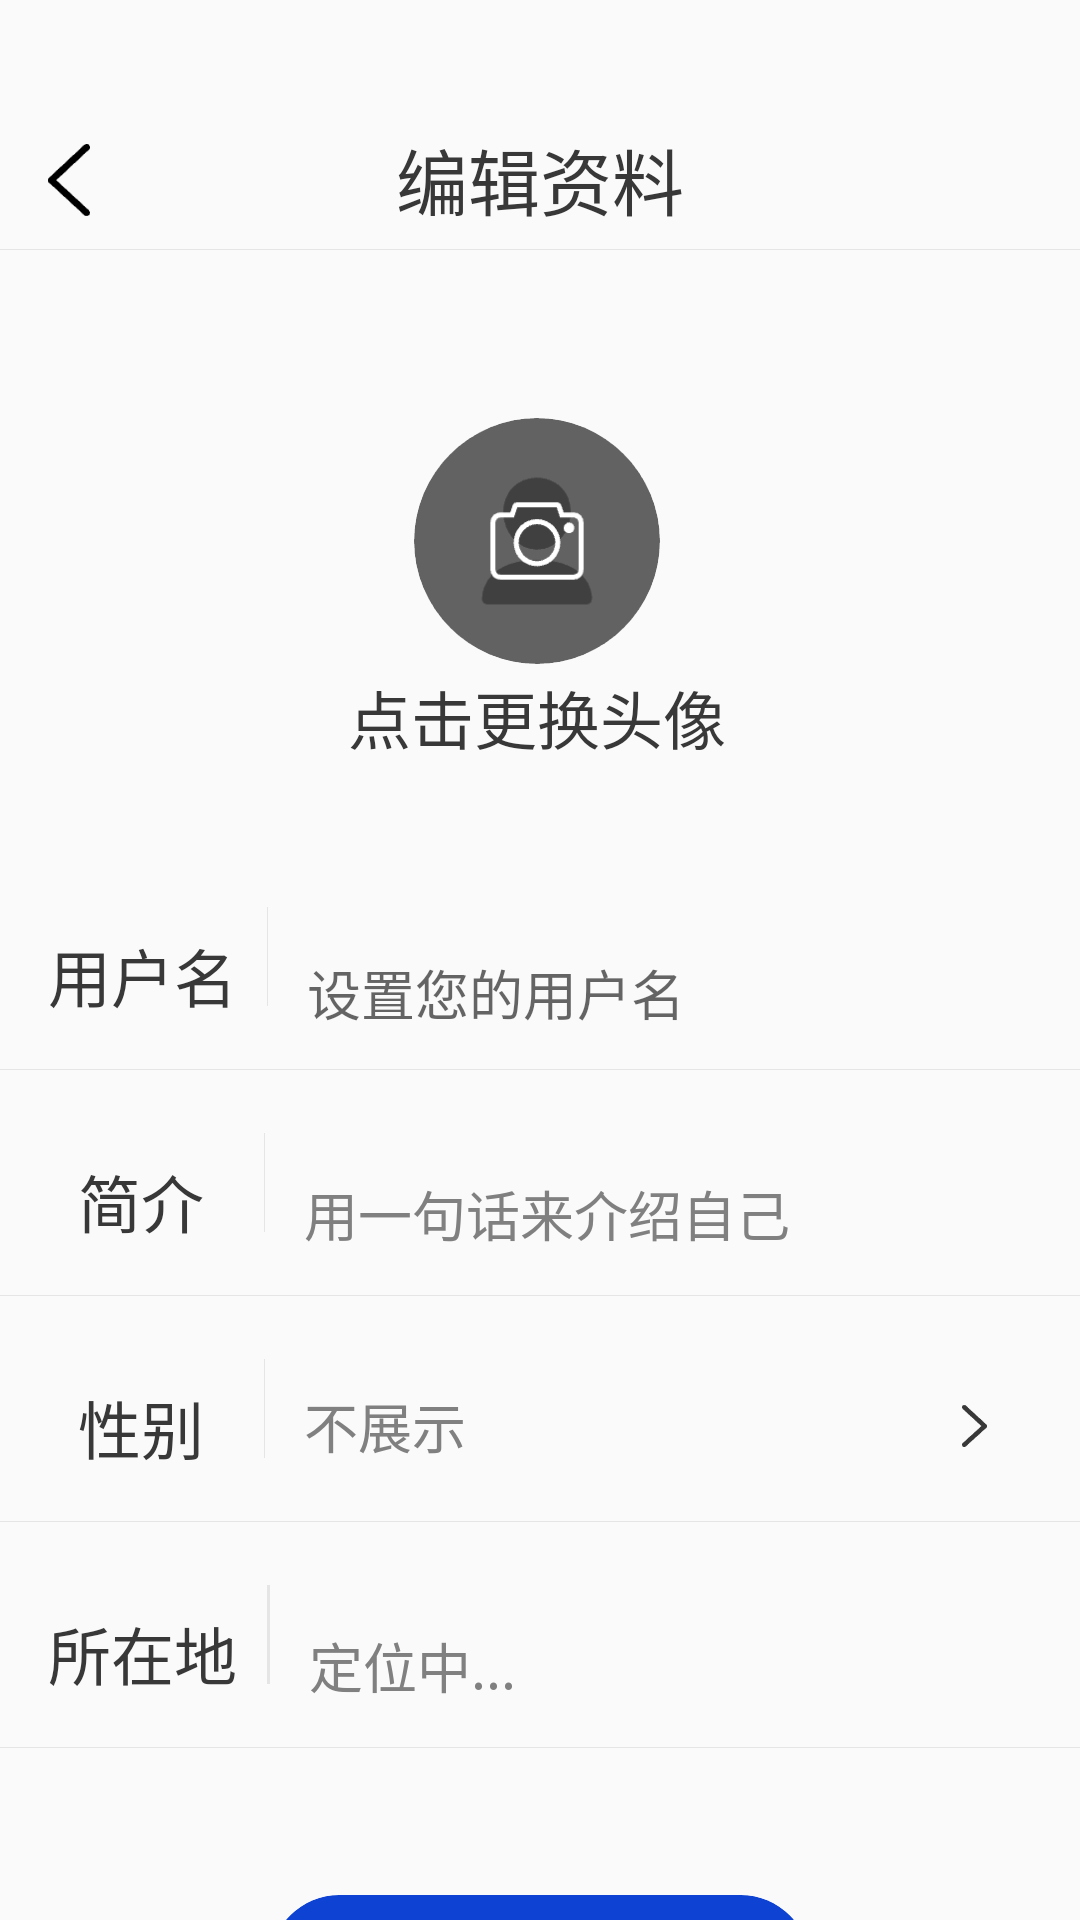

Screen size 1080 × 1920. Icon name, then its center in pixels as (x,y):
arrow right: (974,1426)
back: (69,180)
